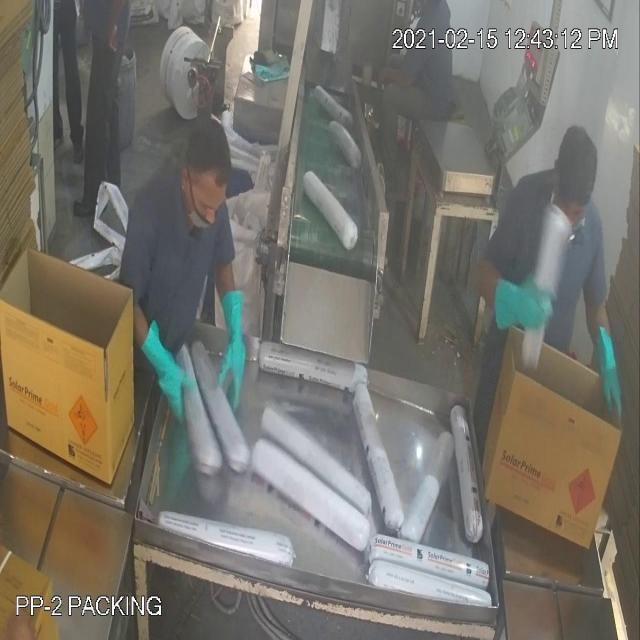Gloves: (40, 42, 606, 370)
